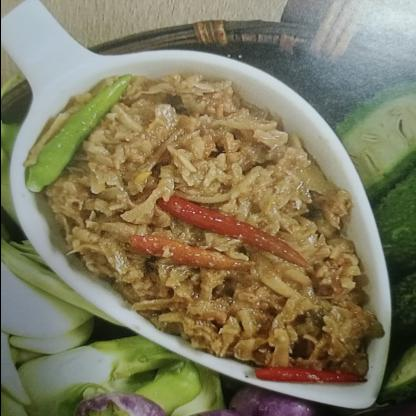Namprig: (21, 41, 381, 395)
